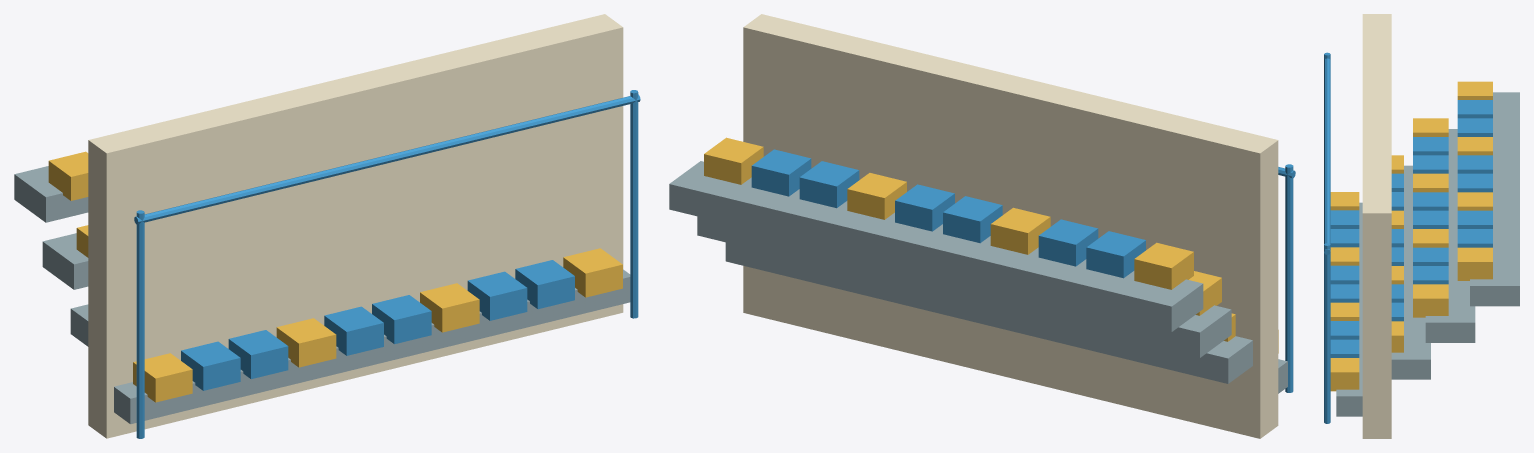
Rendered from modular-stand-seating-bay.glb.
3 views of the same model, side by side, from view 1: azimuth 30°, elevation 25°; view 2: azimuth 150°, elevation 25°; view 3: azimuth 270°, elevation 25° (orthographic). The views are drawn at different scales.
Parts seen in each view (by area): view 1: Stand | rear wall, Stand | bench row 1, Stand | front rail, Stand | bench row 4, Stand | seat 1-4, Stand | seat 1-8, Stand | seat 1-3, Stand | seat 1-2, Stand | seat 1-7, Stand | seat 1-6, Stand | seat 1-5, Stand | seat 1-9 (+7 smaller); view 2: Stand | rear wall, Stand | bench row 4, Stand | bench row 3, Stand | bench row 2, Stand | seat 4-1, Stand | seat 4-3, Stand | seat 4-8, Stand | seat 4-9, Stand | seat 4-4, Stand | seat 4-2, Stand | seat 4-6, Stand | seat 4-7 (+4 smaller); view 3: Stand | rear wall, Stand | bench row 4, Stand | bench row 3, Stand | bench row 2, Stand | bench row 1, Stand | front rail, Stand | rail post.001, Stand | seat 4-10, Stand | seat 3-10, Stand | seat 1-10, Stand | seat 3-4, Stand | seat 4-6 (+35 smaller).
Boxes of the visible parts, bbox=[...] form: Stand | rear wall: bbox=[88, 14, 623, 438]; Stand | bench row 1: bbox=[114, 269, 630, 424]; Stand | front rail: bbox=[134, 94, 640, 224]; Stand | bench row 4: bbox=[14, 166, 88, 222]; Stand | seat 1-4: bbox=[276, 318, 336, 367]; Stand | seat 1-8: bbox=[467, 271, 527, 320]; Stand | seat 1-3: bbox=[228, 330, 288, 379]; Stand | seat 1-2: bbox=[181, 341, 240, 390]; Stand | seat 1-7: bbox=[420, 283, 479, 332]; Stand | seat 1-6: bbox=[372, 295, 431, 344]; Stand | seat 1-5: bbox=[324, 306, 383, 355]; Stand | seat 1-9: bbox=[515, 260, 574, 309]; Stand | rear wall: bbox=[743, 14, 1278, 438]; Stand | bench row 4: bbox=[669, 161, 1203, 331]; Stand | bench row 3: bbox=[697, 216, 1231, 357]; Stand | bench row 2: bbox=[725, 242, 1252, 383]; Stand | seat 4-1: bbox=[1134, 242, 1193, 289]; Stand | seat 4-3: bbox=[1038, 219, 1098, 266]; Stand | seat 4-8: bbox=[799, 161, 859, 208]; Stand | seat 4-9: bbox=[751, 149, 811, 196]; Stand | seat 4-4: bbox=[990, 207, 1050, 254]; Stand | seat 4-2: bbox=[1086, 231, 1145, 278]; Stand | seat 4-6: bbox=[895, 184, 954, 231]; Stand | seat 4-7: bbox=[847, 173, 906, 219]; Stand | rear wall: bbox=[1362, 14, 1391, 438]; Stand | bench row 4: bbox=[1470, 92, 1519, 306]; Stand | bench row 3: bbox=[1425, 129, 1475, 342]; Stand | bench row 2: bbox=[1391, 165, 1430, 379]; Stand | bench row 1: bbox=[1336, 202, 1362, 416]; Stand | front rail: bbox=[1324, 58, 1330, 254]; Stand | rail post.001: bbox=[1324, 243, 1330, 423]; Stand | seat 4-10: bbox=[1457, 247, 1492, 280]; Stand | seat 3-10: bbox=[1413, 284, 1448, 317]; Stand | seat 1-10: bbox=[1330, 358, 1359, 391]; Stand | seat 3-4: bbox=[1413, 173, 1448, 192]; Stand | seat 4-6: bbox=[1457, 173, 1492, 192].
Bounding box in the file's own units: 3.6 × 1.9 × 1.5.
